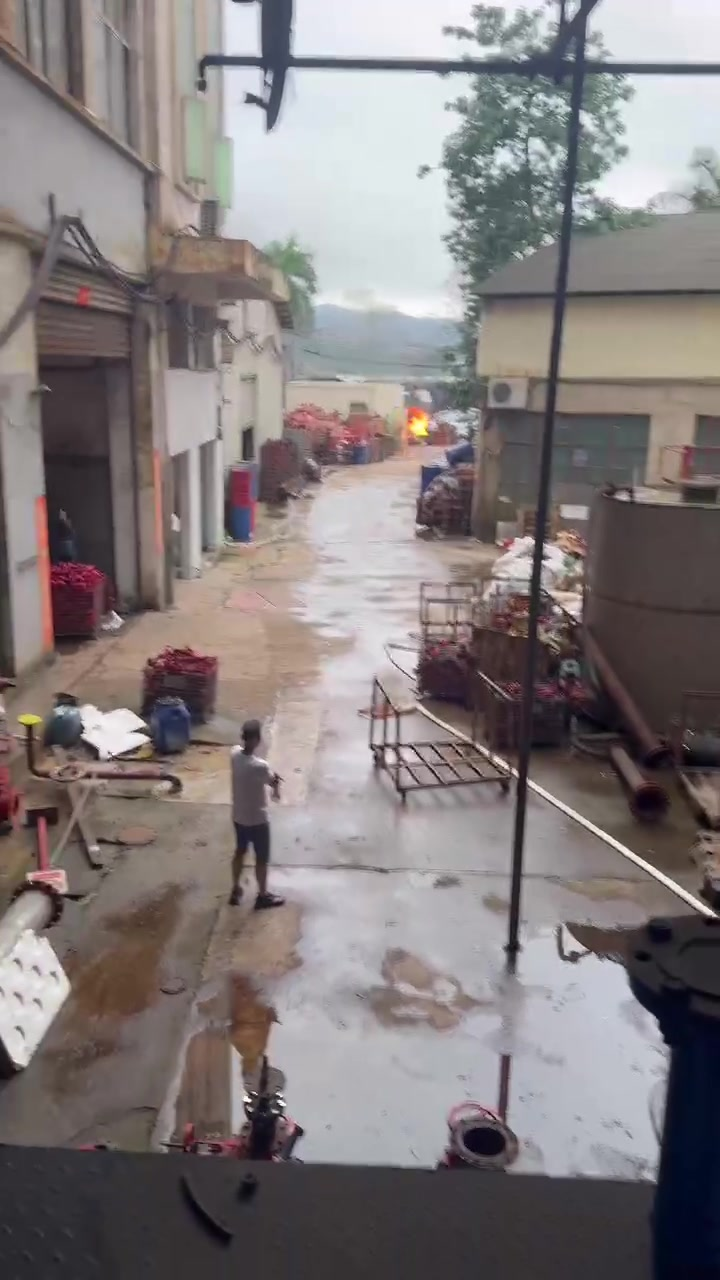fire: (405, 406, 429, 436)
